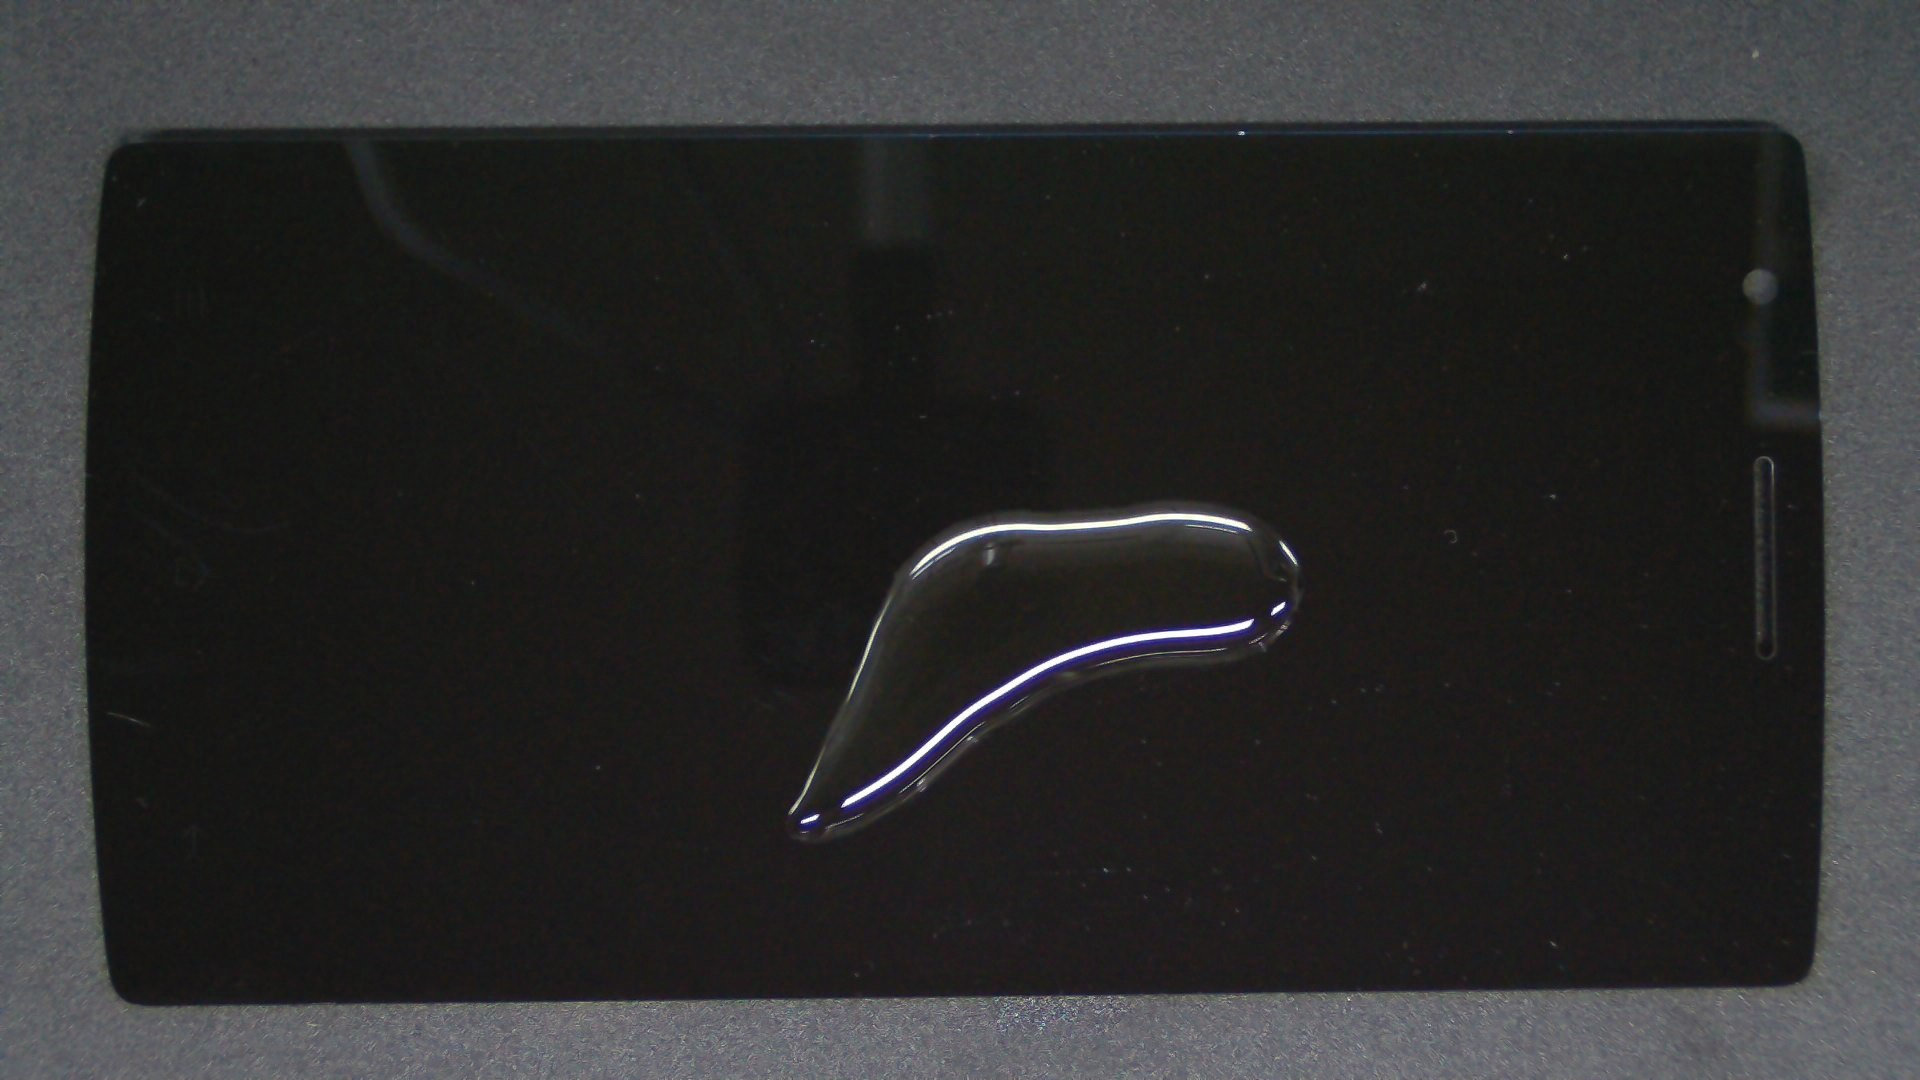oil: (585, 249, 1753, 749)
